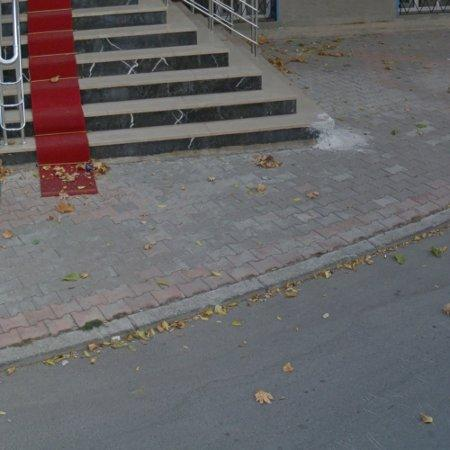stairs: (0, 0, 320, 166)
